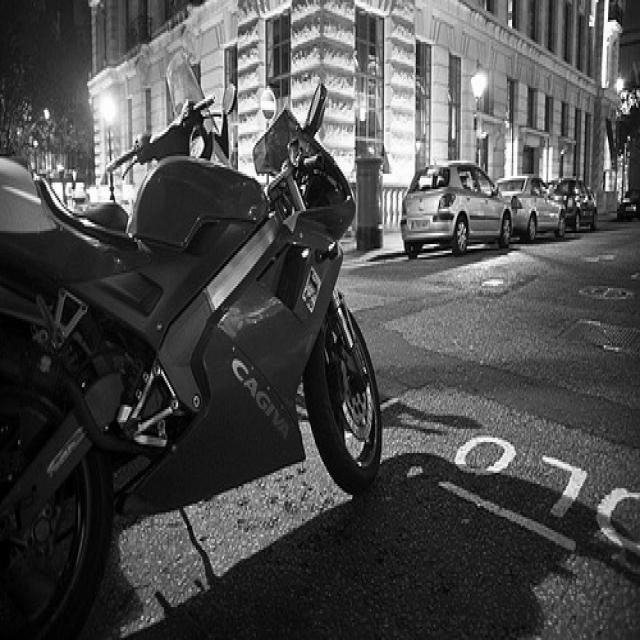car: (399, 160, 511, 260), (496, 172, 564, 240), (546, 174, 596, 231), (614, 185, 639, 218)
motorbike: (0, 77, 380, 638)
